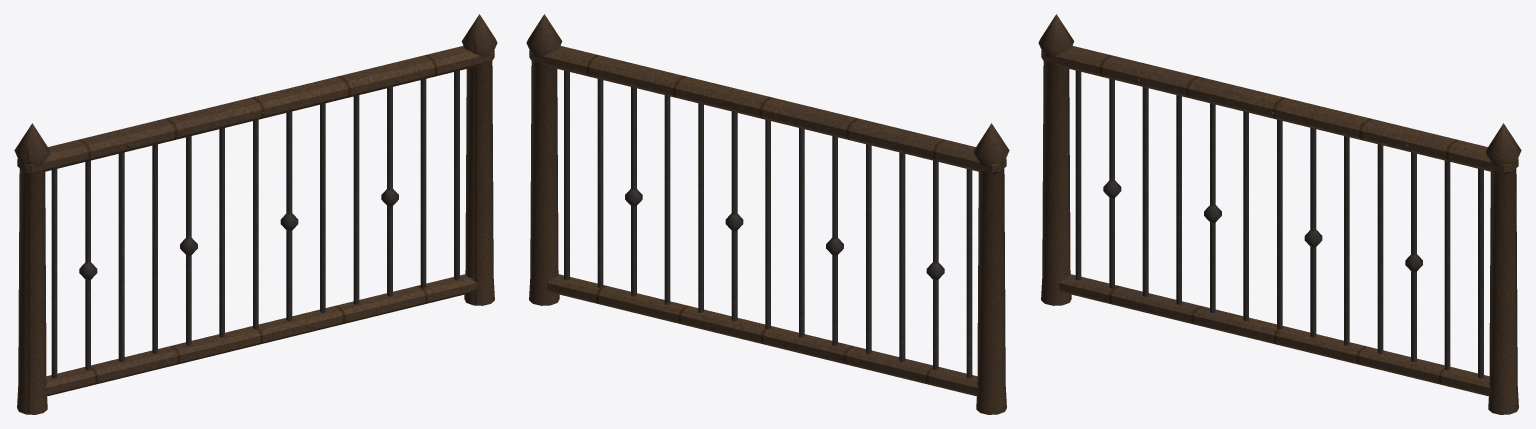
The model's file is balcony_railing.glb.
3 renders of one model, left to right at view 1: azimuth 30°, elevation 25°; view 2: azimuth 150°, elevation 25°; view 3: azimuth 330°, elevation 25°, orthographic.
Parts seen in each view (by area): view 1: balcony_railing; view 2: balcony_railing; view 3: balcony_railing.
Part boxes in pixels (<box>): balcony_railing: <box>14,14,497,414</box>; balcony_railing: <box>526,14,1009,414</box>; balcony_railing: <box>1038,14,1521,414</box>.
Size of the model in its own units: 2.14 by 1.22 by 0.1331.
Materials: 1 (1 with a texture image).
